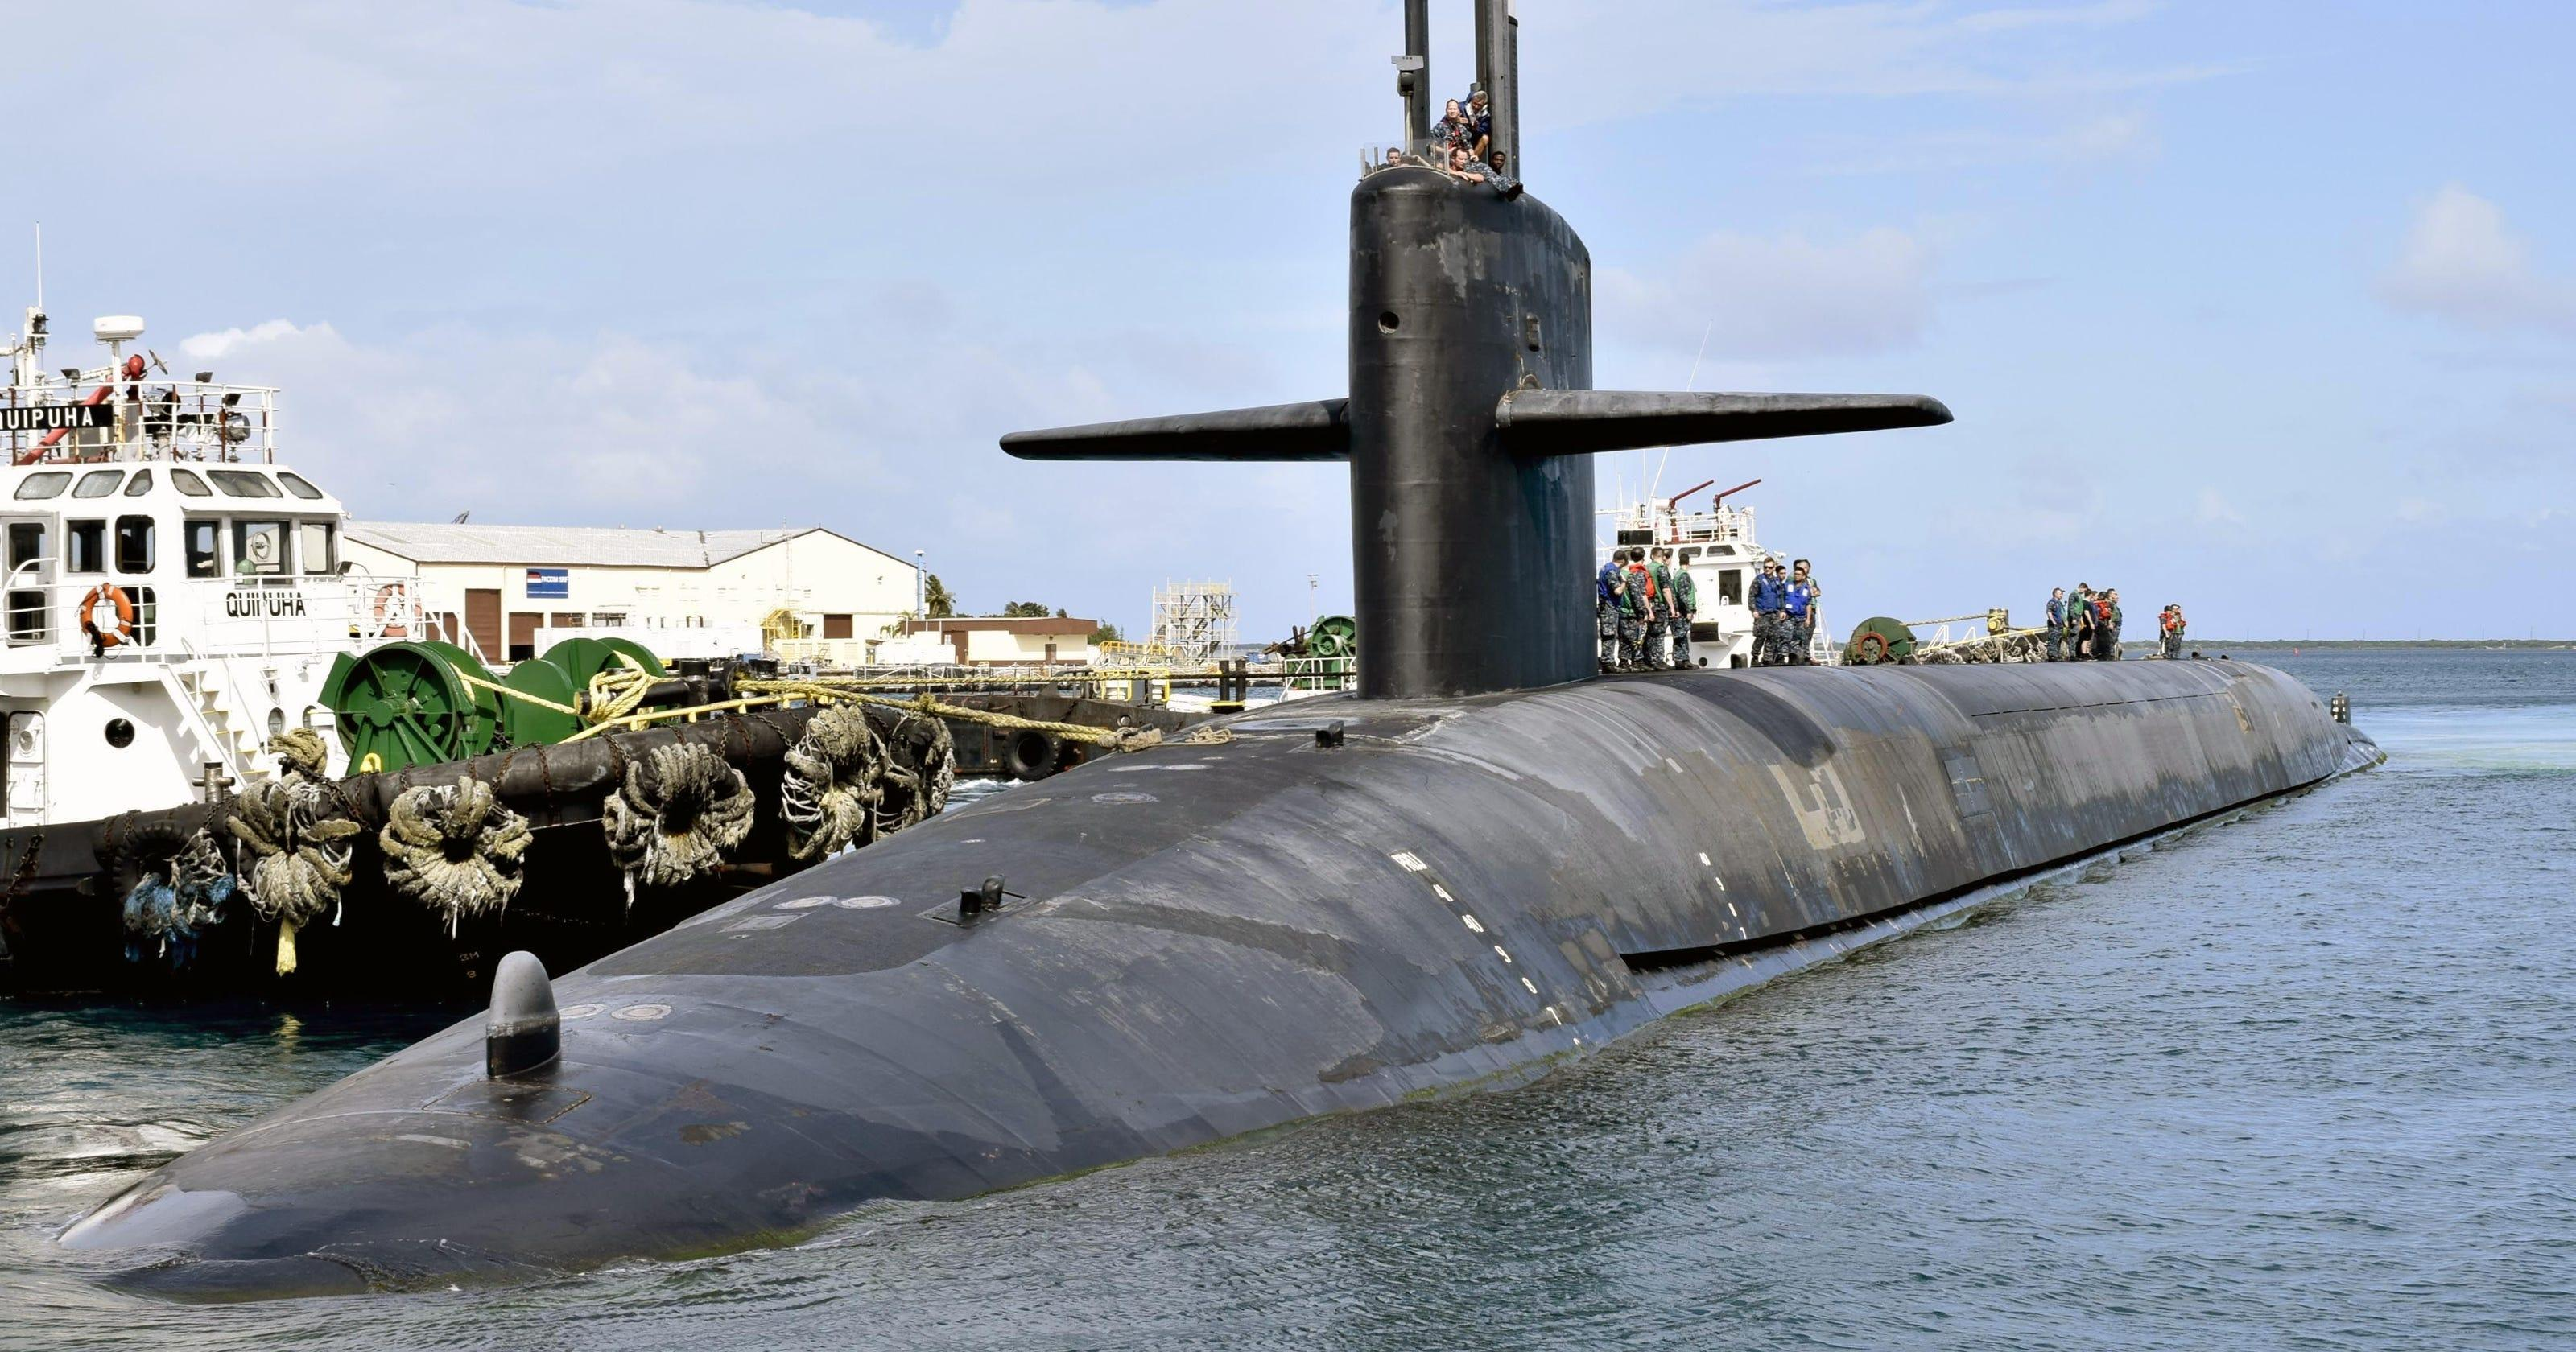Submarine: (881, 0, 2487, 1316)
